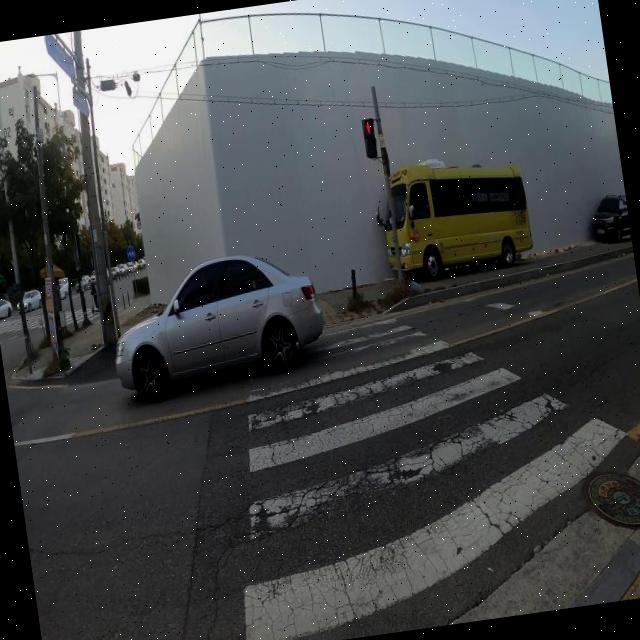crosswalk: (246, 314, 630, 640), (0, 308, 115, 334)
